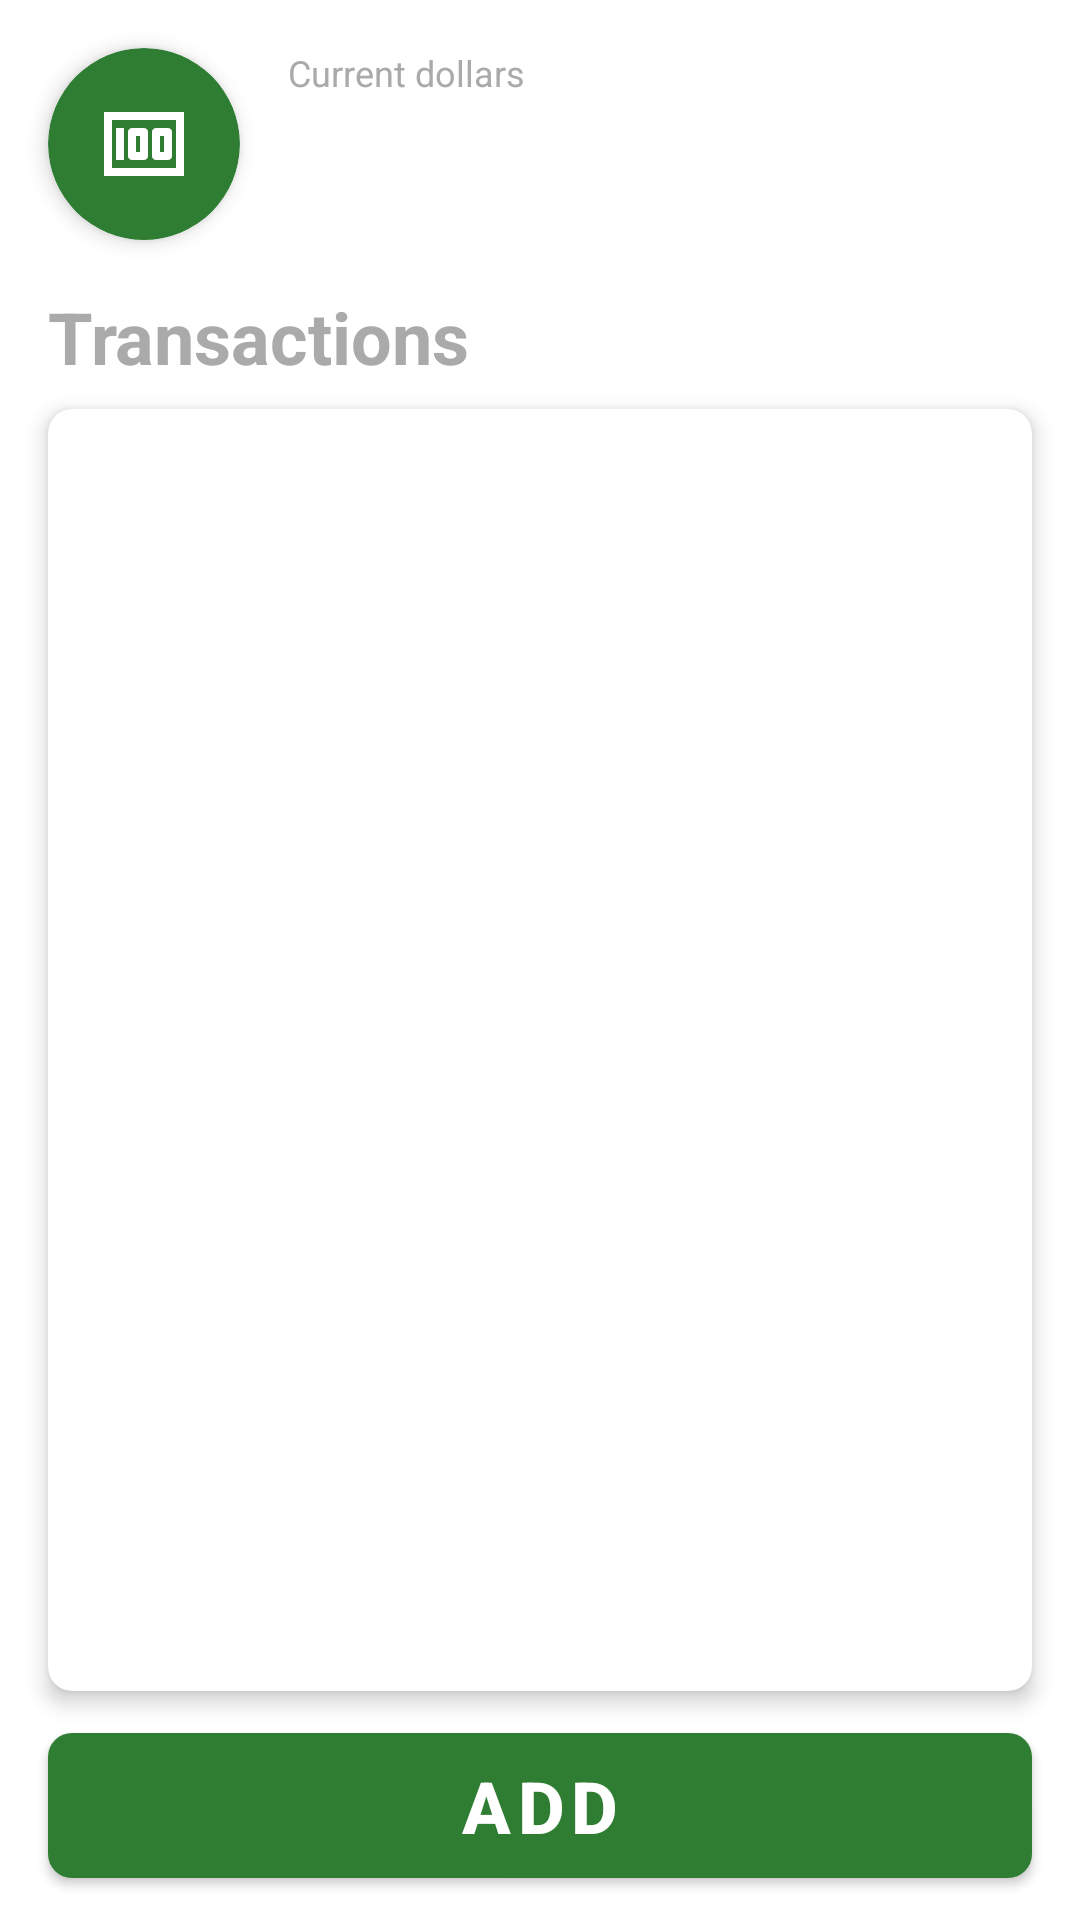

Screen size 1080 x 1920. Icon name, then its box in pixels as (x1, y1, x2, y2):
Money image: (104, 112, 184, 176)
